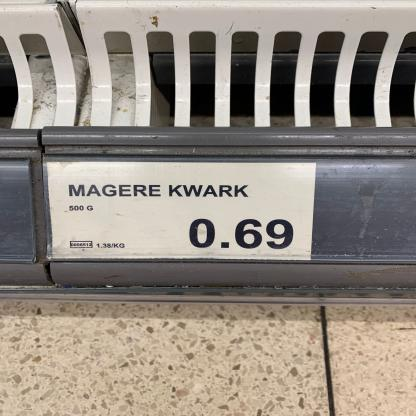prtg: (48, 163, 318, 261)
